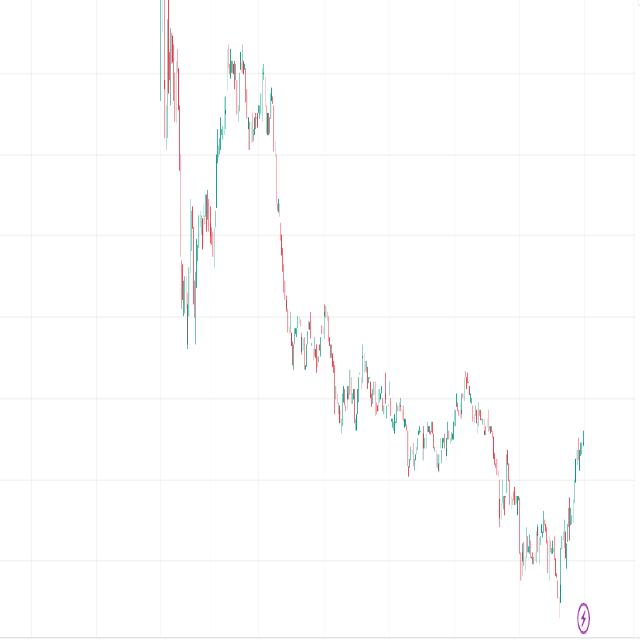Triple-Bottom: (284, 303, 328, 377)
